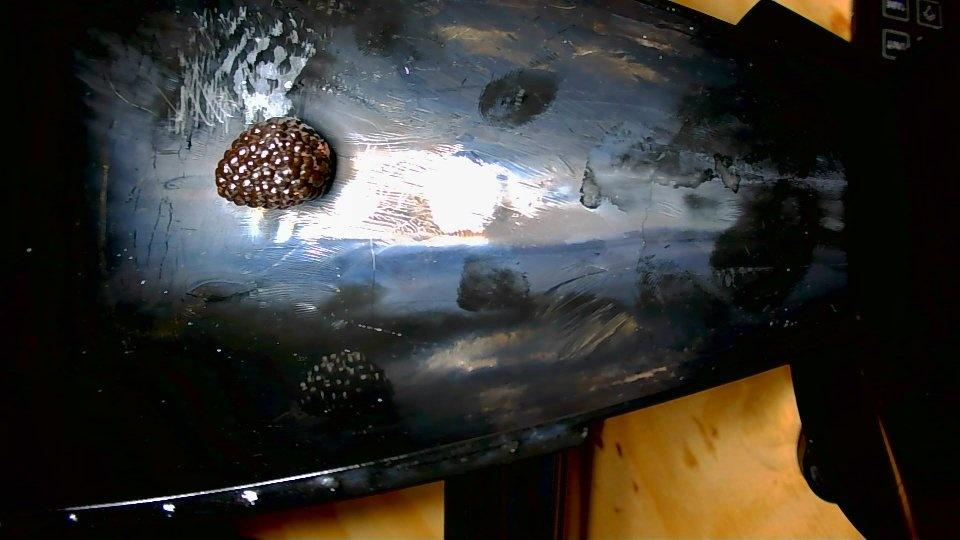berry: (215, 117, 333, 208)
